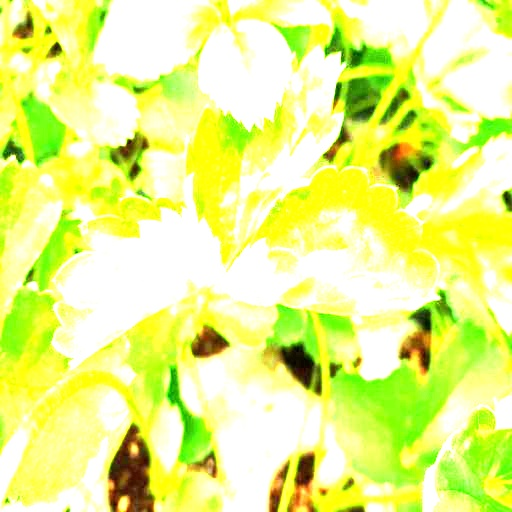Powdery Mildew Leaf: (185, 45, 347, 268), (218, 165, 441, 317), (51, 193, 225, 371)
